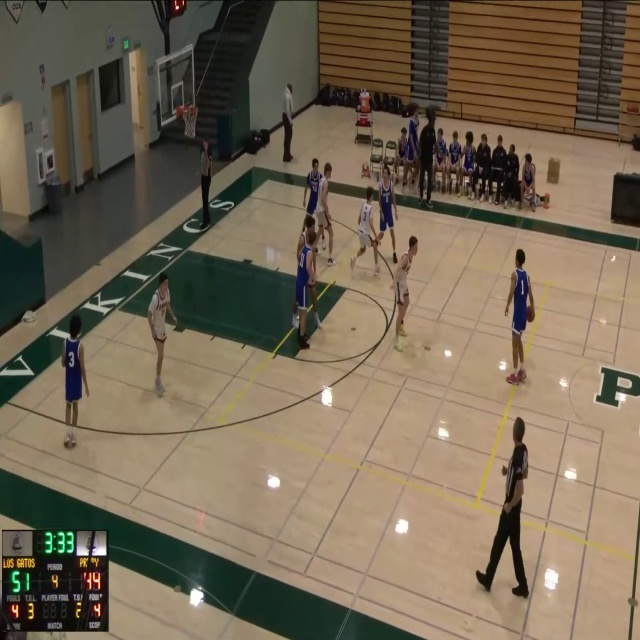Basketball: (526, 306, 535, 322)
